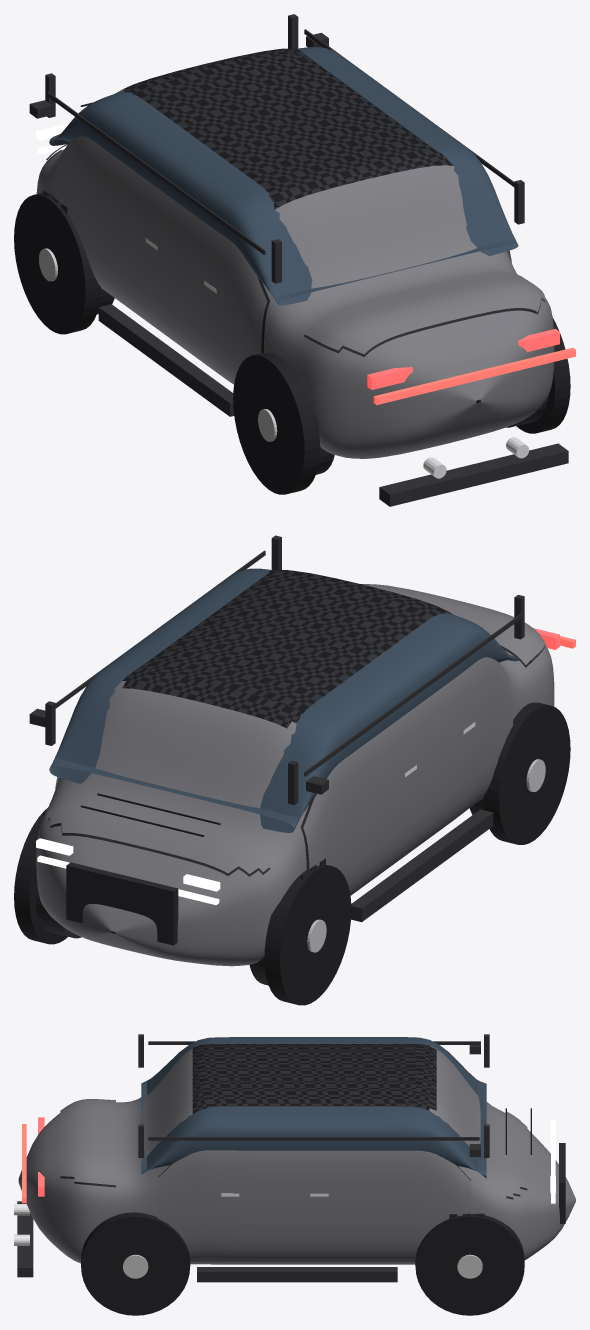
File: car_gen_suv.glb
3 views of the same model, one above another, from view 1: azimuth 30°, elevation 25°; view 2: azimuth 150°, elevation 25°; view 3: azimuth 270°, elevation 25° (orthographic). The views are drawn at different scales.
Visible parts, largest first — view 1: Body, Door.001, Window, Boot, Arch.003, Arch.001, Diffuser, Skirt, Rear_Light_Bar, Arch, Trim_Line.004, Interior (+2 smaller); view 2: Body, Door.001, Window, Arch.001, Arch.003, Bonnet, Grille, Skirt, Boot, Arch.002, Trim_Line.004, Interior (+1 smaller); view 3: Body, Door, Window, Arch, Arch.002, Boot, Skirt.001, Bonnet, Trim_Line.005, Diffuser, Grille, Hub_Cap.001 (+2 smaller).
Part boxes in pixels (box(x1,y1,x2,y2)): Body: box(36, 48, 554, 458); Door.001: box(54, 136, 267, 384); Window: box(49, 47, 518, 305); Boot: box(304, 271, 545, 354); Arch.003: box(233, 352, 319, 494); Arch.001: box(14, 192, 100, 334); Diffuser: box(379, 443, 568, 506); Skirt: box(98, 304, 234, 416); Rear_Light_Bar: box(373, 347, 575, 404); Arch: box(516, 318, 570, 433); Trim_Line.004: box(47, 92, 265, 254); Interior: box(257, 277, 535, 402); Body: box(36, 569, 554, 966); Door.001: box(303, 657, 513, 895); Window: box(49, 568, 518, 832); Arch.001: box(264, 863, 351, 1005); Arch.003: box(483, 702, 570, 844); Bonnet: box(46, 805, 270, 873); Grille: box(66, 862, 178, 945); Skirt: box(351, 809, 493, 922); Boot: box(361, 584, 545, 664); Arch.002: box(14, 808, 67, 944); Trim_Line.004: box(304, 613, 522, 776); Interior: box(56, 645, 532, 933); Body: box(18, 1044, 575, 1264); Door: box(158, 1150, 471, 1262); Window: box(141, 1037, 486, 1178); Arch: box(81, 1212, 190, 1315); Arch.002: box(415, 1214, 524, 1315); Boot: box(60, 1099, 115, 1185); Skirt.001: box(197, 1267, 397, 1282); Bonnet: box(506, 1112, 527, 1197); Trim_Line.005: box(148, 1137, 479, 1140); Diffuser: box(17, 1201, 33, 1277); Grille: box(559, 1143, 565, 1223); Hub_Cap.001: box(457, 1254, 482, 1278).
Size of the model in its own units: 2.26 by 1.9 by 4.94.
Materials: 17 (1 with a texture image).
